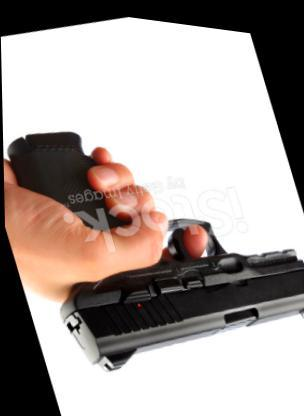pistol: (1, 61, 301, 410)
